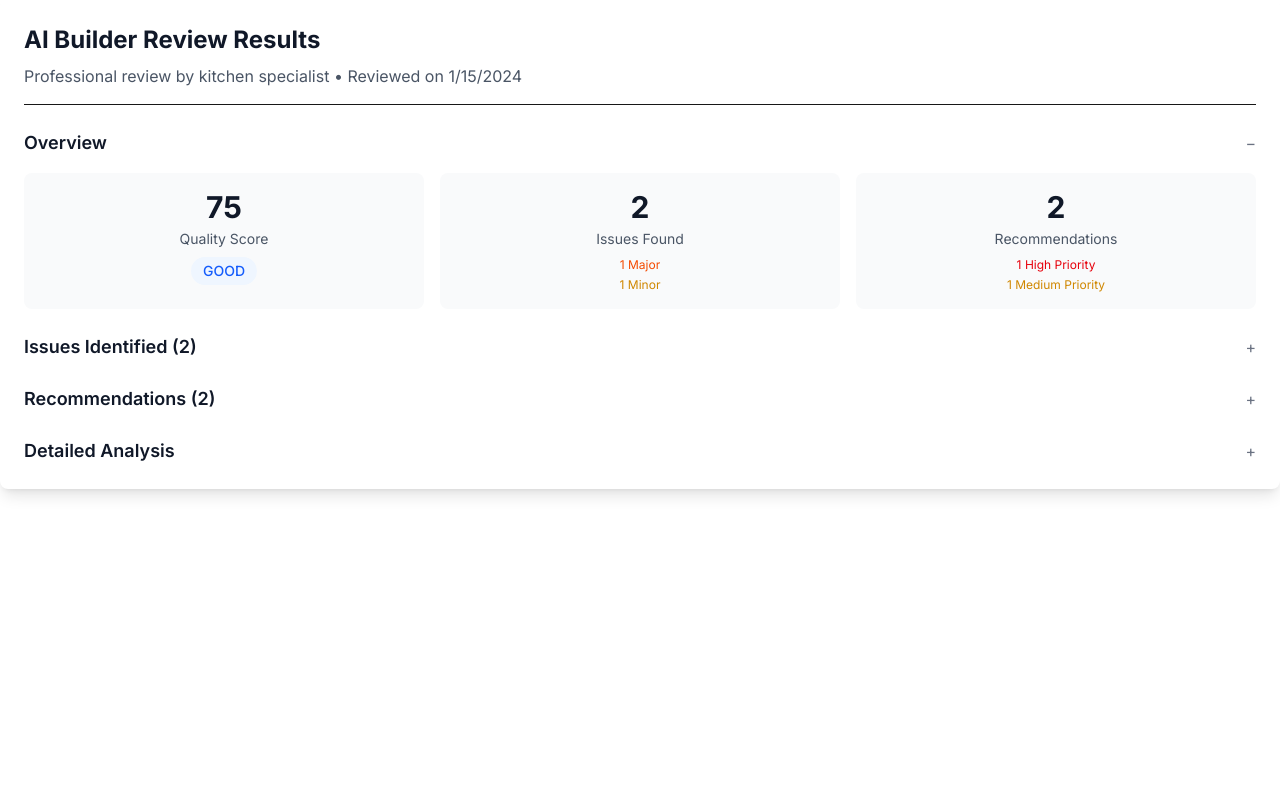
Test: BuilderReviewDisplay › should toggle sections correctly
Expected: the text "Quality Score" is shown, [180, 230, 268, 247]
Click to collapse overview
Click the heading "Overview" at (65, 143), box [24, 129, 107, 157]
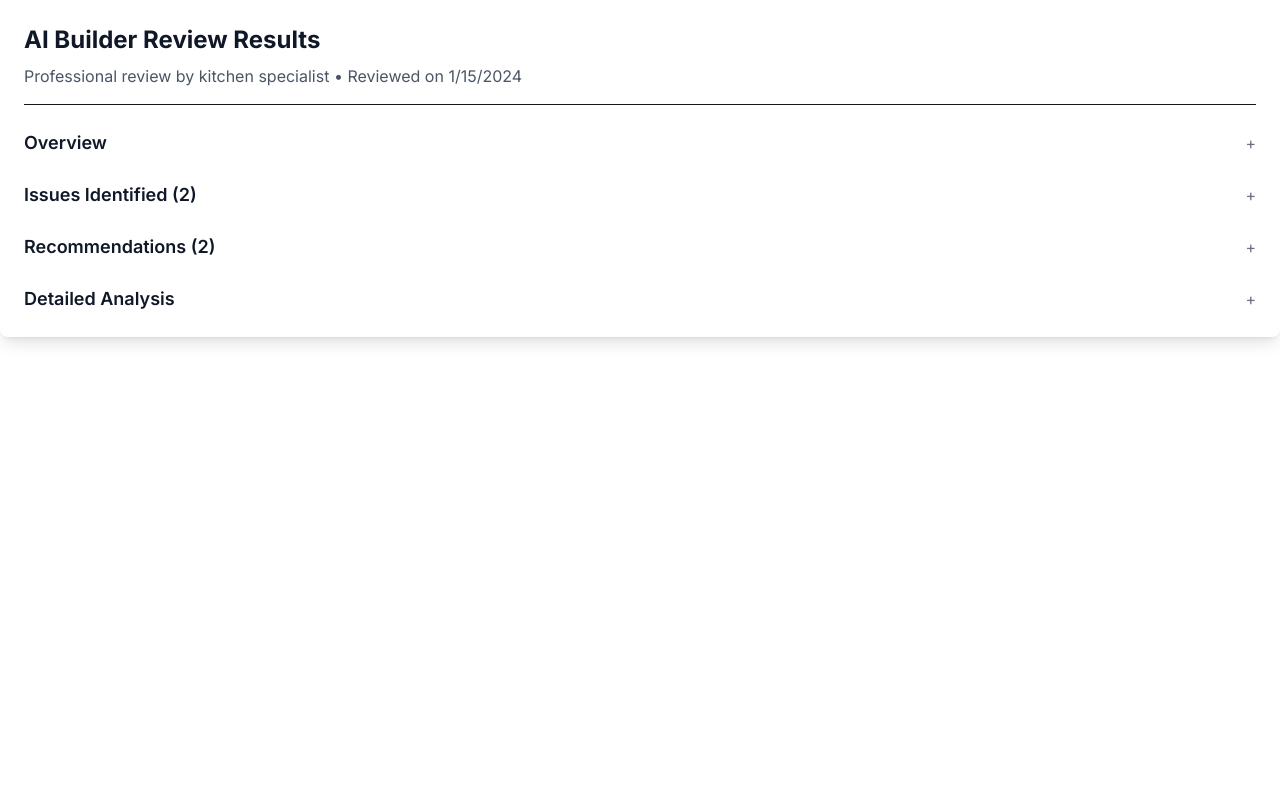
Now the text "Quality Score" is gone
Click to expand issues
Click the heading "Issues Identified (2)" at (110, 195), box [24, 181, 197, 209]
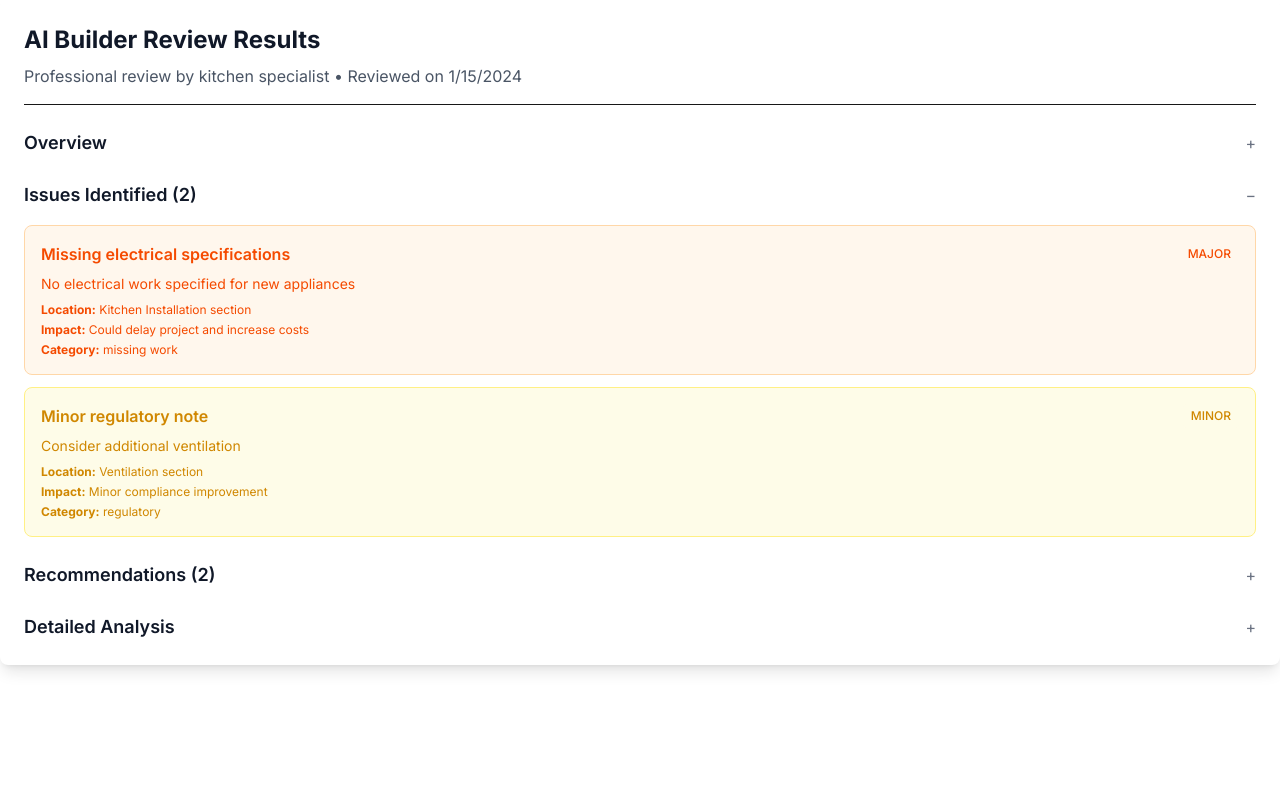
Now the heading "Missing electrical specifications" is shown, box [41, 242, 290, 266]
